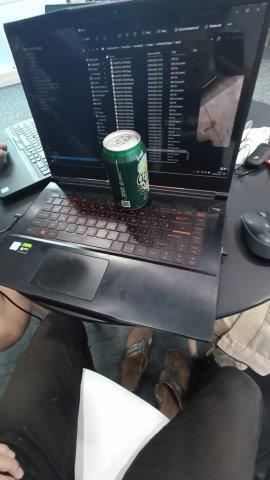kaleng: (102, 130, 150, 209)
